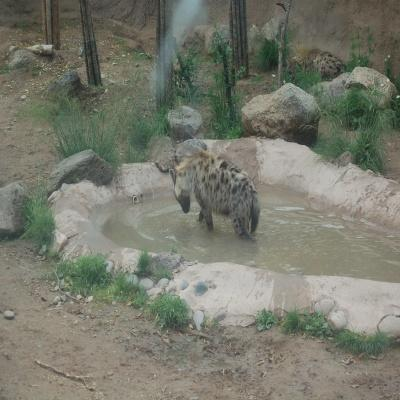hyenas: (147, 138, 301, 256)
